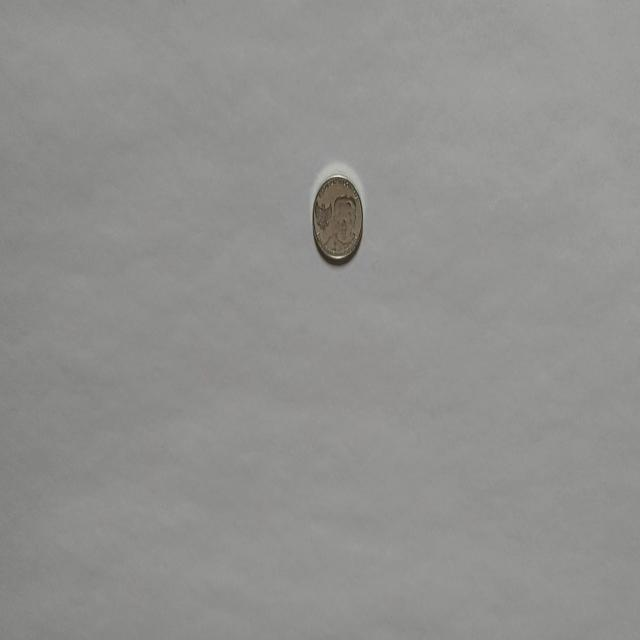seratus rupiah: (311, 172, 363, 264)
